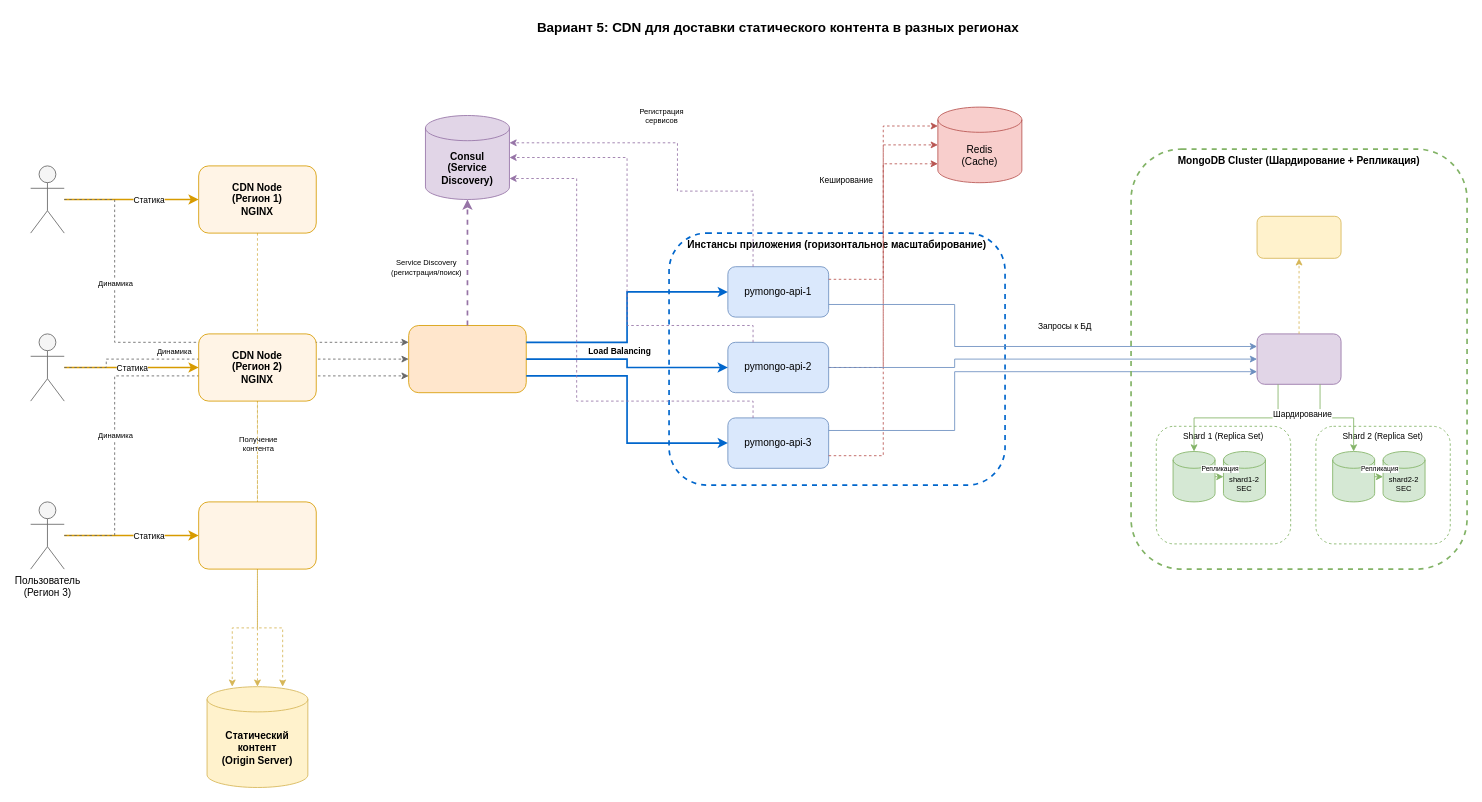
Some shapes in this 1482 by 802 pixel diagram are drawn without their labels. The centre of each missing label's shape, as x and y in pixels:
"API Gateway (NGINX)" belongs at point (467, 359).
"CDN Node (Регион 3) NGINX" belongs at point (257, 535).
"configSrv" belongs at point (1298, 236).
"mongos (Router)" belongs at point (1298, 358).
"shard1-1 PRIMARY" belongs at point (1193, 476).
"shard2-1 PRIMARY" belongs at point (1353, 476).
"Пользователь (Регион 1)" belongs at point (47, 199).
"Пользователь (Регион 2)" belongs at point (47, 367).
